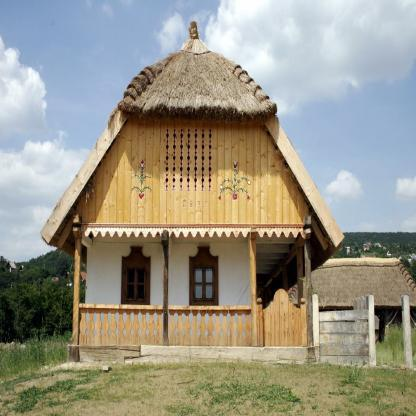Building Outline: (40, 20, 344, 364)
Door: (257, 289, 308, 347)
Door Hole: (256, 231, 308, 347)
Facade: (74, 178, 311, 363)
Floor Slab: (87, 218, 311, 224)
Ground Floor: (87, 224, 311, 346)
Molding: (82, 222, 304, 239)
Pillar: (303, 215, 313, 346), (72, 214, 81, 345), (161, 232, 169, 346), (250, 231, 257, 347)
Roof: (117, 20, 278, 123)
Top Floor: (87, 125, 311, 219)
Window: (194, 266, 214, 300), (127, 266, 146, 300)
Window Hole: (78, 231, 252, 347)
Window Outline: (189, 246, 219, 306), (121, 246, 151, 305)
